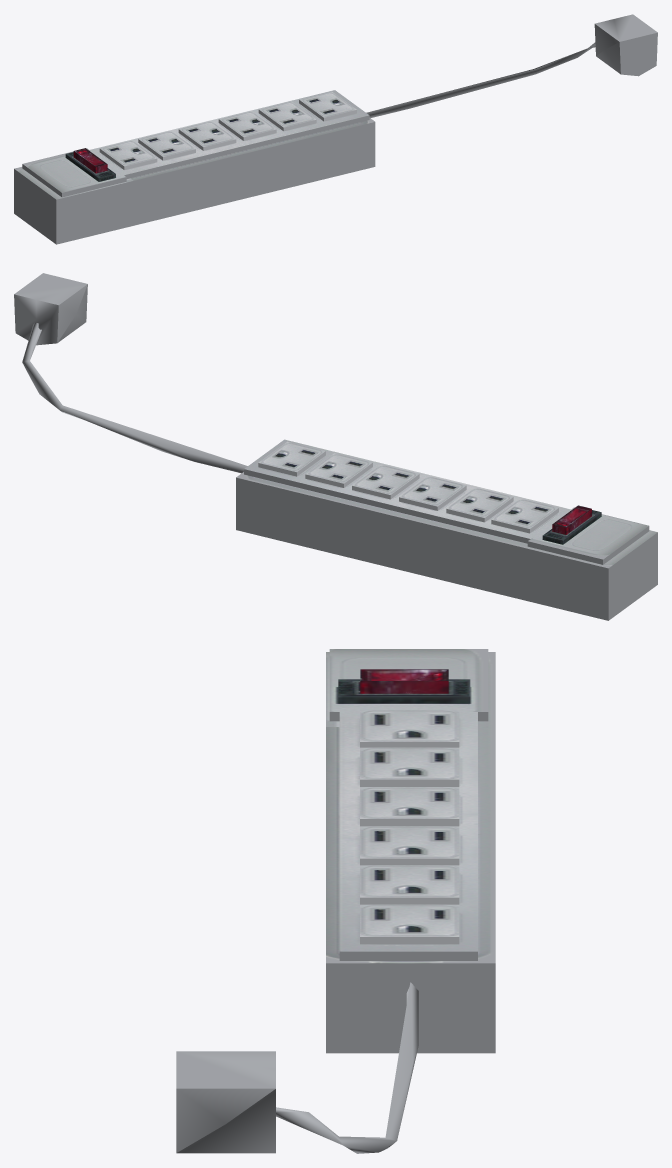
File: powerstrip_r_lod2.fbx
3 renders of one model, top to bottom at view 1: azimuth 30°, elevation 25°; view 2: azimuth 150°, elevation 25°; view 3: azimuth 270°, elevation 25°, orthographic. The views are drawn at different scales.
Visible parts, largest first — view 1: body, sockets, Box02, cord, light, lightbase; view 2: body, sockets, Box02, cord, light, lightbase; view 3: body, sockets, Box02, cord, light, lightbase.
Boxes of the visible parts, x1,y1,x2,y2 form: body: (14,90,375,244); sockets: (99,91,356,170); Box02: (594,14,657,76); cord: (366,42,595,118); light: (73,148,107,173); lightbase: (65,152,115,181); body: (236,439,657,620); sockets: (258,441,558,533); Box02: (14,273,87,345); cord: (22,322,247,473); light: (552,505,591,534); lightbase: (542,510,601,544); body: (326,649,495,1053); sockets: (360,710,459,944); Box02: (176,1051,275,1153); cord: (276,982,418,1153); light: (360,669,448,693); lightbase: (338,679,470,703).
Size of the model in its own units: 2.31 by 0.3965 by 0.5634.
